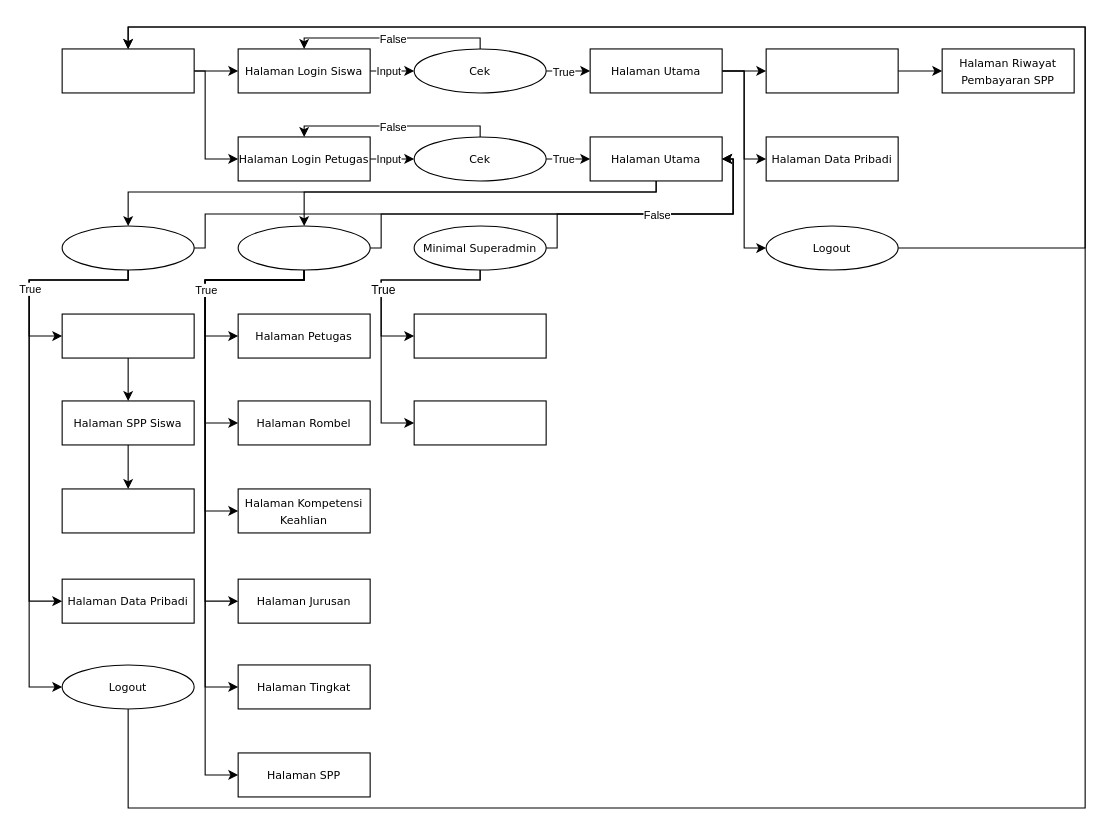
Some shapes in this 1113 by 836 pixel diagram are drawn without their labels. Here are the shapes that lost their labels. From the top down, the centre of each, then its label:
At point 127,70: "Halaman Pengunjung".
At point 831,70: "Halaman Riwayat SPP".
At point 127,247: "Minimal Petugas".
At point 303,247: "Minimal Admin".
At point 127,335: "Halaman Siswa".
At point 479,335: "Halaman Aktivitas Petugas".
At point 479,422: "Halaman Laporan".
At point 127,510: "Halaman Pembayaran SPP Siswa".
